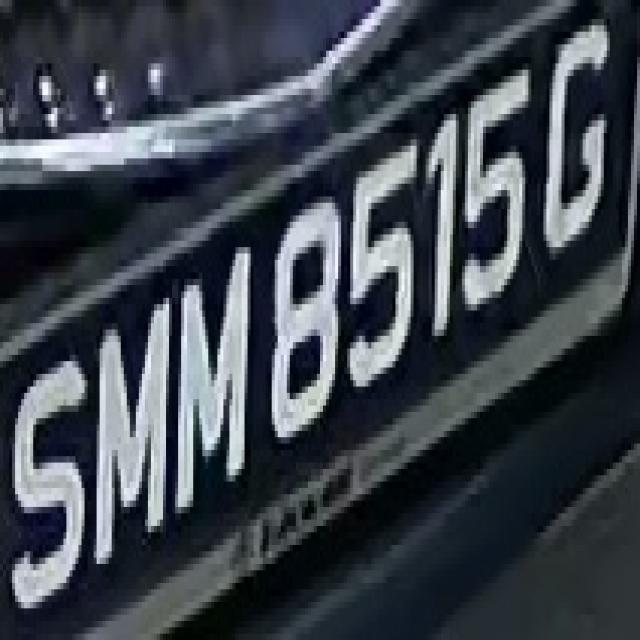1: (420, 108, 462, 380)
5: (350, 127, 423, 393), (462, 63, 531, 317)
8: (269, 190, 353, 450)
G: (543, 12, 619, 272)
M: (85, 279, 178, 583), (172, 215, 254, 507)
S: (9, 355, 91, 627)
